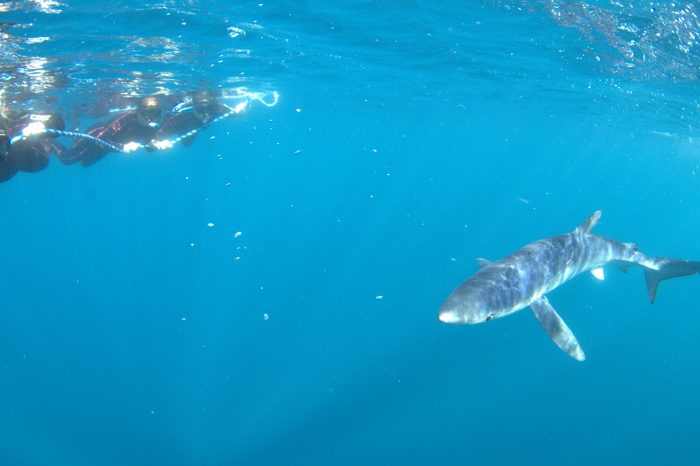Azul: (432, 199, 700, 373)
